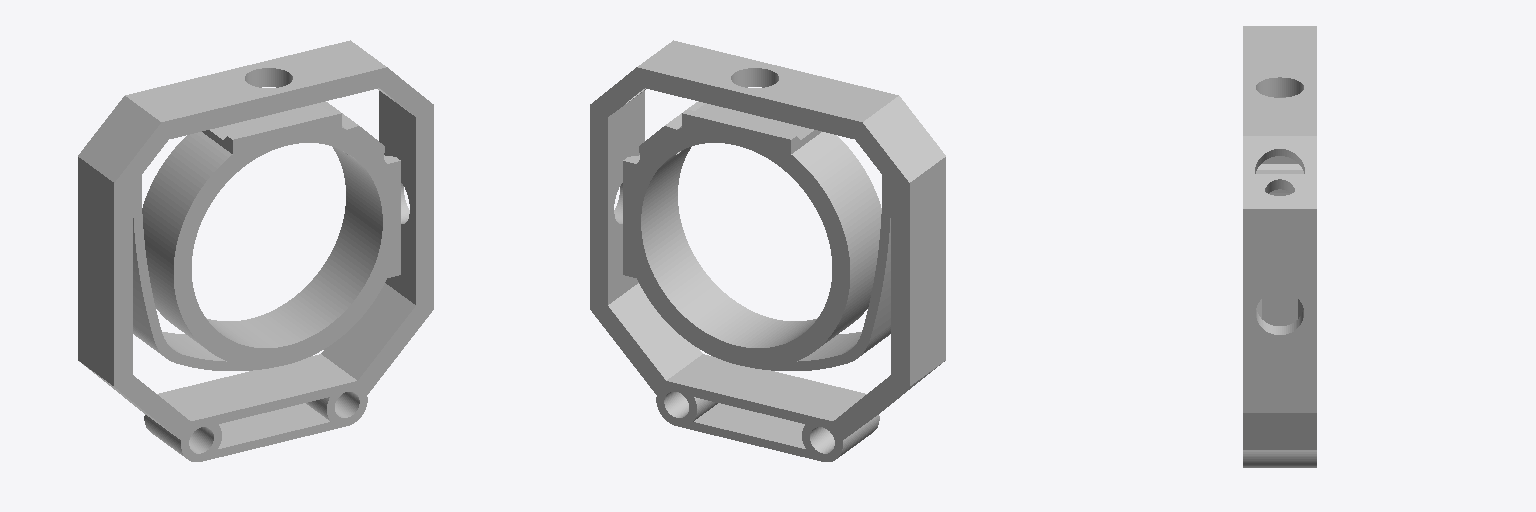
The model's file is V5_SM1 Lens Mount (V5).obj.
The picture shows the model from 3 angles: view 1: azimuth 30°, elevation 25°; view 2: azimuth 150°, elevation 25°; view 3: azimuth 270°, elevation 25°; orthographic projection.
Visible parts, largest first — view 1: Solid1:21; view 2: Solid1:21; view 3: Solid1:21.
Boxes of the visible parts, box(x1,y1,x2,y2) form: Solid1:21: box(78, 40, 433, 461); Solid1:21: box(590, 40, 945, 461); Solid1:21: box(1243, 26, 1316, 467).
Size of the model in its own units: 43.94 by 45.83 by 8.75.